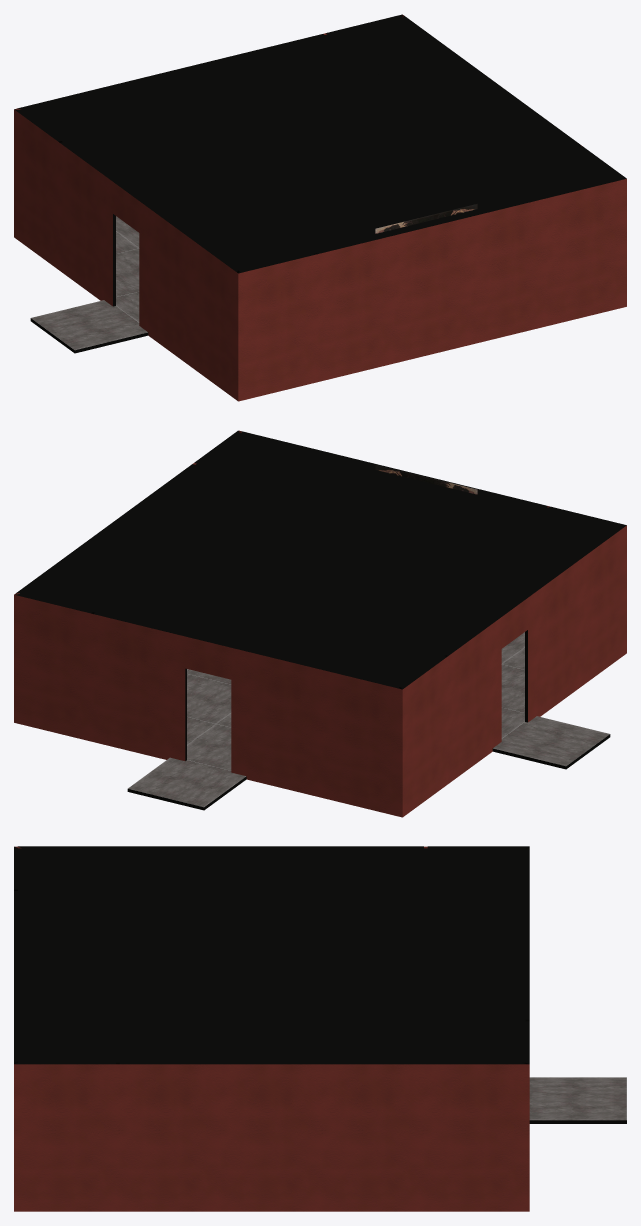
The picture shows the model from 3 angles, top to bottom: view 1: azimuth 30°, elevation 25°; view 2: azimuth 150°, elevation 25°; view 3: azimuth 270°, elevation 25°; orthographic projection. The views are drawn at different scales.
Visible parts, largest first — view 1: Int_Apt_03_Corner_01, Int_Apt_03_Corner_01 (1), Int_Apt_03_Wall_01, Int_Apt_03_Wall_01 (2), NorthWallContent, Int_Apt_03_Corner_01 (3), Int_Apt_03_Wall_01 (9), Int_Apt_03_Wall_01 (11), Int_apt_03_Floor_02 (2), EastDoor, Int_apt_01_Ceiling_01 (22), Int_apt_01_Ceiling_01 (12) (+25 smaller); view 2: Int_Apt_03_Corner_01 (3), Int_Apt_03_Corner_01 (2), Int_Apt_03_Wall_01 (6), Int_Apt_03_Wall_01 (8), Int_Apt_03_Corner_01, Int_Apt_03_Wall_01 (11), Int_Apt_03_Wall_01 (9), SouthDoor, Int_apt_03_Floor_02 (2), Int_apt_03_Floor_02, EastDoor, Int_apt_01_Ceiling_01 (12) (+28 smaller); view 3: Int_Apt_03_Corner_01 (2), Int_Apt_03_Corner_01 (1), WestWallContent, Int_Apt_03_Wall_01 (5), Int_Apt_03_Wall_01 (3), Int_apt_03_Floor_02, Int_apt_01_Ceiling_01 (24), Int_apt_01_Ceiling_01 (14), Int_apt_01_Ceiling_01 (4), Int_apt_01_Ceiling_01 (9), Int_apt_01_Ceiling_01 (19), Int_apt_01_Ceiling_01 (10) (+20 smaller).
Boxes of the visible parts, x1,y1,x2,y2 form: Int_Apt_03_Corner_01: (192, 239, 317, 401); Int_Apt_03_Corner_01 (1): (546, 145, 626, 325); Int_Apt_03_Wall_01: (316, 234, 394, 381); Int_Apt_03_Wall_01 (2): (469, 197, 547, 344); NorthWallContent: (393, 215, 470, 363); Int_Apt_03_Corner_01 (3): (14, 90, 94, 270); Int_Apt_03_Wall_01 (9): (148, 207, 194, 367); Int_Apt_03_Wall_01 (11): (60, 142, 106, 300); Int_apt_03_Floor_02 (2): (30, 300, 148, 353); EastDoor: (104, 174, 150, 331); Int_apt_01_Ceiling_01 (22): (196, 220, 316, 273); Int_apt_01_Ceiling_01 (12): (19, 91, 138, 142); Int_Apt_03_Corner_01 (3): (323, 656, 448, 817); Int_Apt_03_Corner_01 (2): (14, 561, 93, 741); Int_Apt_03_Wall_01 (6): (246, 650, 324, 797); Int_Apt_03_Wall_01 (8): (93, 613, 171, 759); Int_Apt_03_Corner_01: (547, 506, 626, 686); Int_Apt_03_Wall_01 (11): (445, 623, 492, 783); Int_Apt_03_Wall_01 (9): (534, 558, 580, 716); SouthDoor: (170, 631, 247, 776); Int_apt_03_Floor_02 (2): (187, 669, 610, 769); Int_apt_03_Floor_02: (127, 757, 246, 810); EastDoor: (490, 590, 536, 747); Int_apt_01_Ceiling_01 (12): (325, 636, 445, 688); Int_Apt_03_Corner_01 (2): (424, 1021, 529, 1211); Int_Apt_03_Corner_01 (1): (14, 1019, 119, 1211); WestWallContent: (221, 1062, 322, 1211); Int_Apt_03_Wall_01 (5): (322, 1062, 423, 1211); Int_Apt_03_Wall_01 (3): (119, 1062, 220, 1211); Int_apt_03_Floor_02: (529, 1077, 626, 1123); Int_apt_01_Ceiling_01 (24): (18, 1019, 119, 1064); Int_apt_01_Ceiling_01 (14): (424, 1019, 525, 1063); Int_apt_01_Ceiling_01 (4): (221, 1019, 322, 1062); Int_apt_01_Ceiling_01 (9): (322, 1019, 423, 1062); Int_apt_01_Ceiling_01 (19): (119, 1019, 220, 1062); Int_apt_01_Ceiling_01 (10): (424, 934, 525, 976).
Bounding box in the file's own units: 15.1 × 4.33 × 15.1.
6 materials, 4 textured.
